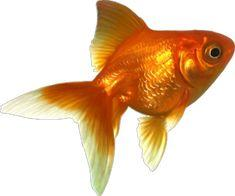goldfish: (60, 13, 235, 140)
